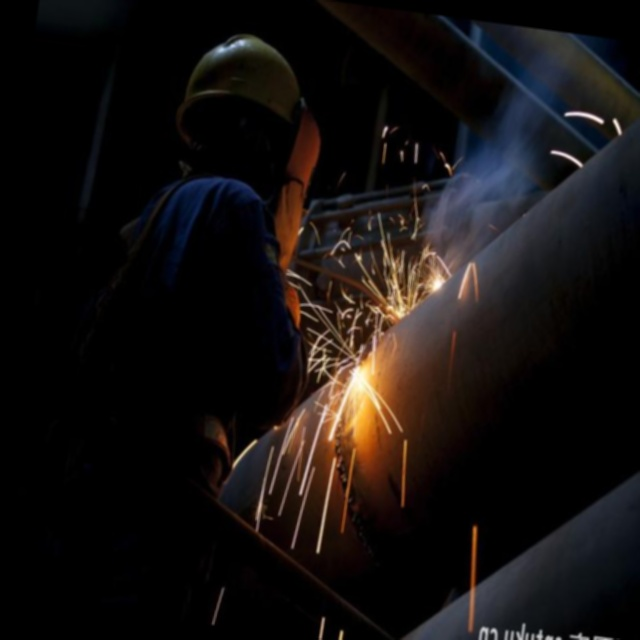Con_Casco: (171, 25, 317, 202)
